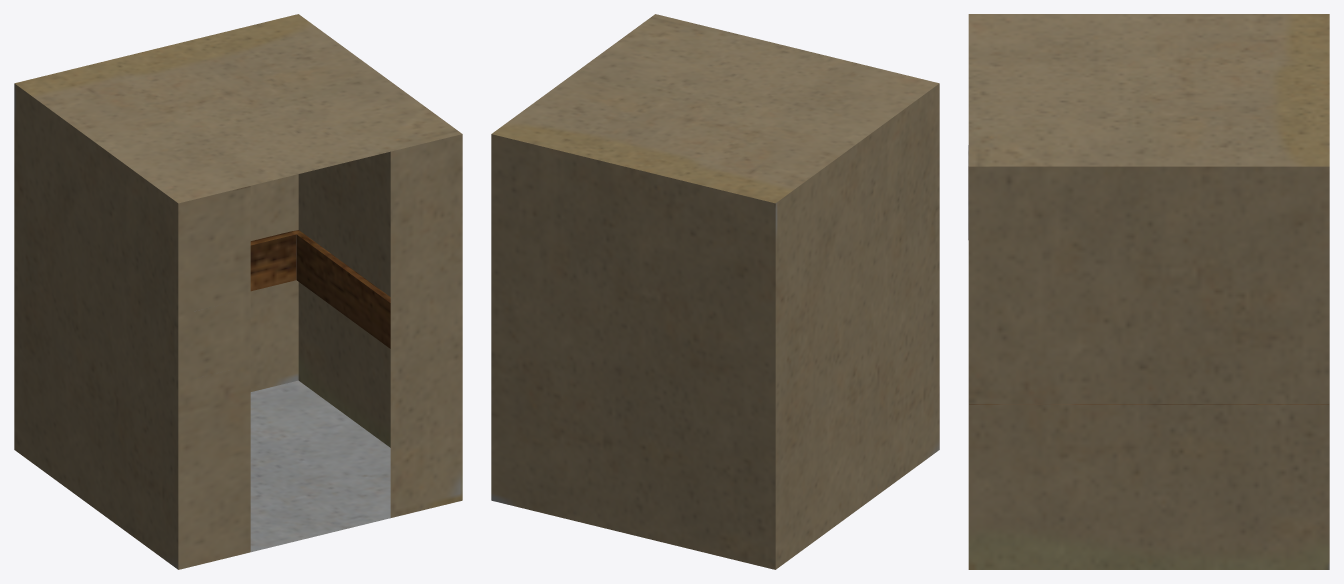
The model's file is BodyElevator.fbx.
The picture shows the model from 3 angles, left to right: view 1: azimuth 30°, elevation 25°; view 2: azimuth 150°, elevation 25°; view 3: azimuth 270°, elevation 25°; orthographic projection. The views are drawn at different scales.
Parts seen in each view (by area): view 1: Cube; view 2: Cube; view 3: Cube.
Boxes of the visible parts, <box> form: Cube: <box>14,14,462,569</box>; Cube: <box>491,14,939,569</box>; Cube: <box>968,14,1329,569</box>.
Size of the model in its own units: 200 by 246 by 200.
Materials: 1 (1 with a texture image).
